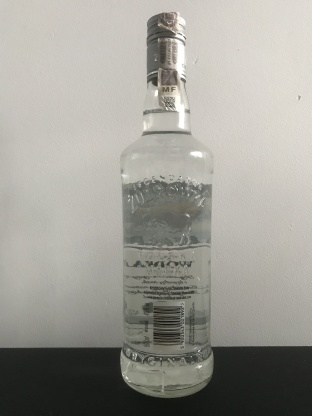nakretka: (144, 9, 188, 84)
